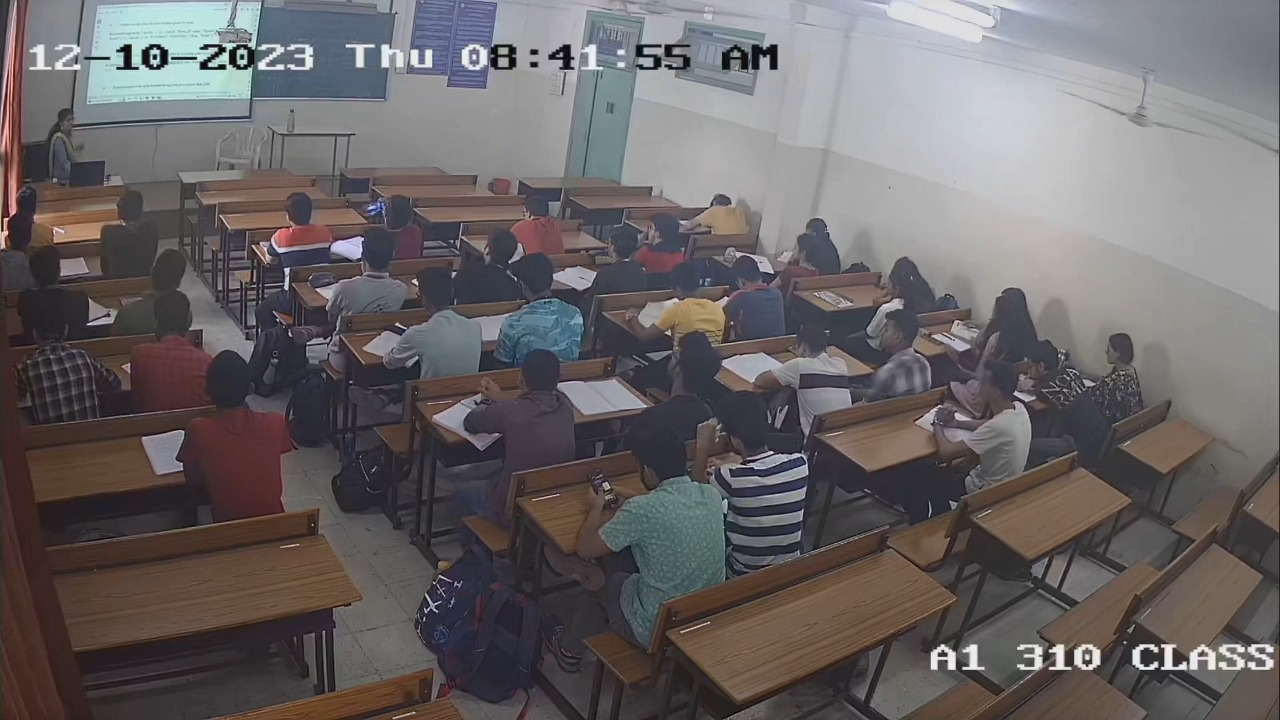cell-phones: (586, 466, 620, 506), (384, 323, 410, 337), (595, 253, 621, 267)
person: (591, 417, 727, 600), (396, 265, 483, 378), (633, 211, 692, 291)
